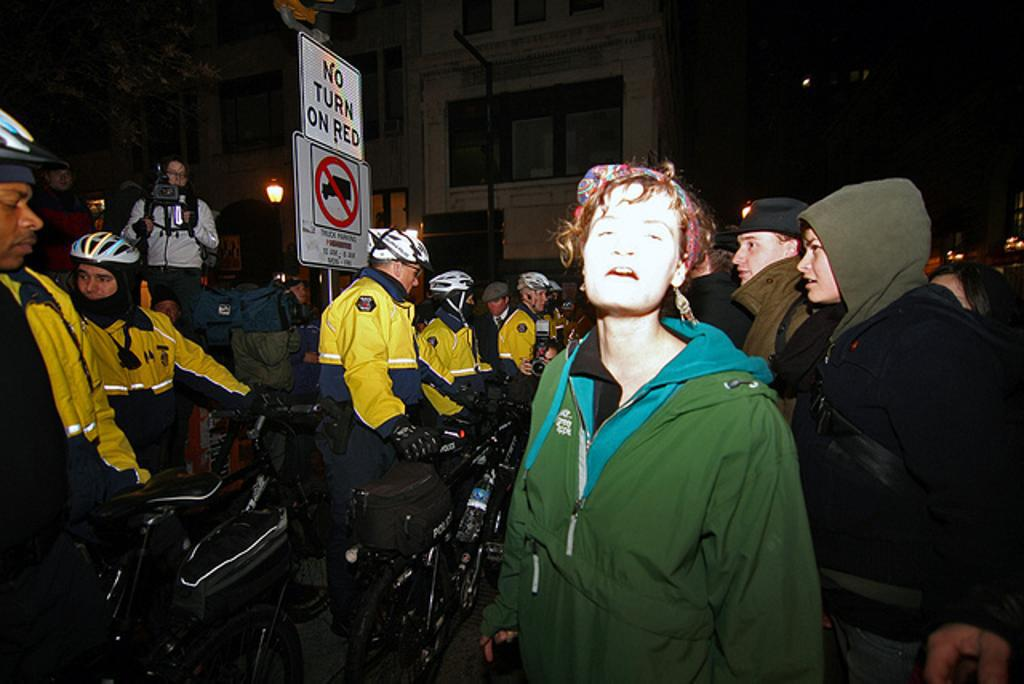face: (585, 184, 679, 309), (797, 224, 845, 304), (1, 182, 37, 270), (733, 231, 784, 287), (77, 263, 119, 311), (395, 265, 423, 297), (154, 302, 178, 325), (536, 348, 556, 372), (167, 162, 186, 187), (52, 172, 73, 191), (532, 289, 548, 312), (462, 291, 475, 319), (488, 297, 506, 316), (293, 284, 308, 303), (551, 292, 558, 303), (564, 311, 571, 318)
